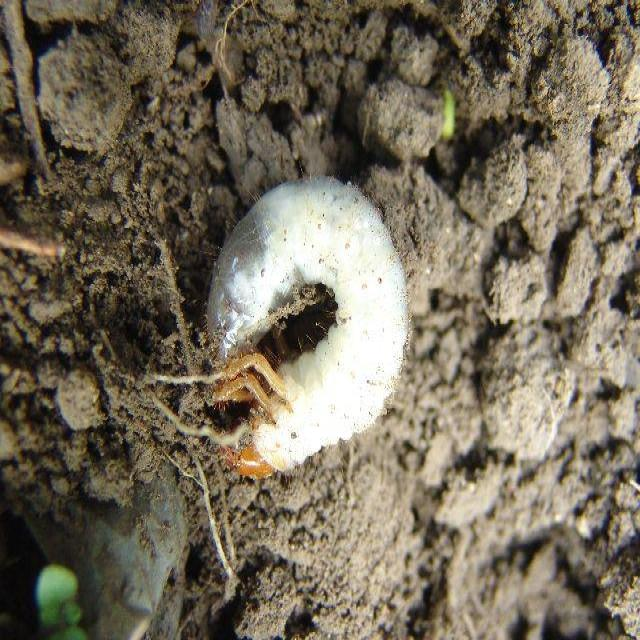grub: (192, 176, 413, 477)
